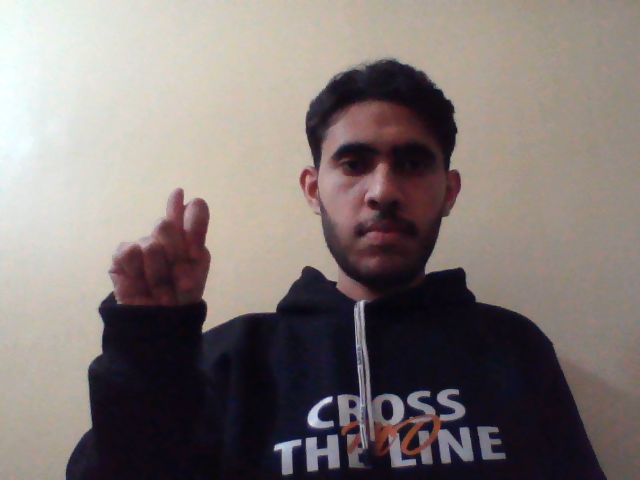T: (101, 182, 214, 315)
